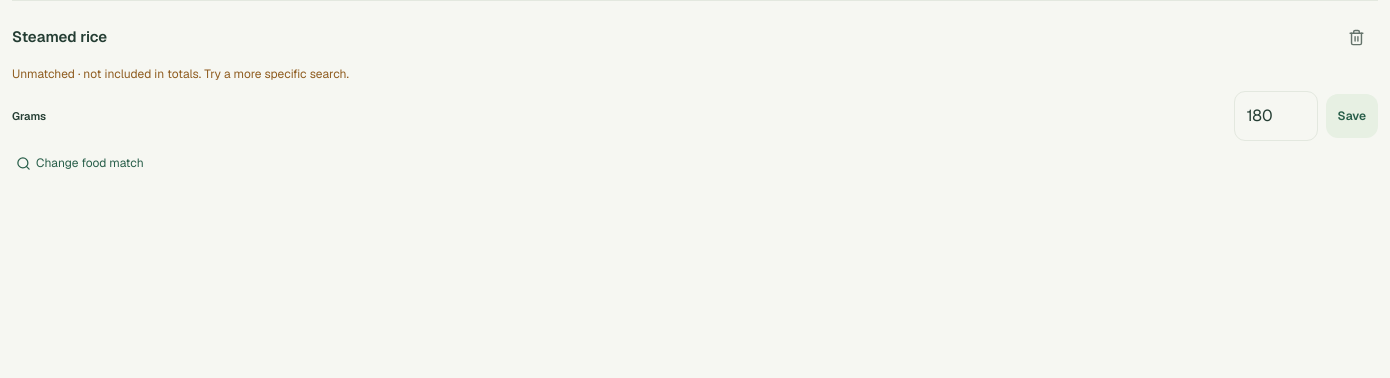
Test: changing a photo meal's food match › keeps the search open when nothing matches
Click the button "Change food match" at {"x": 80, "y": 163}, box [12, 141, 148, 185]
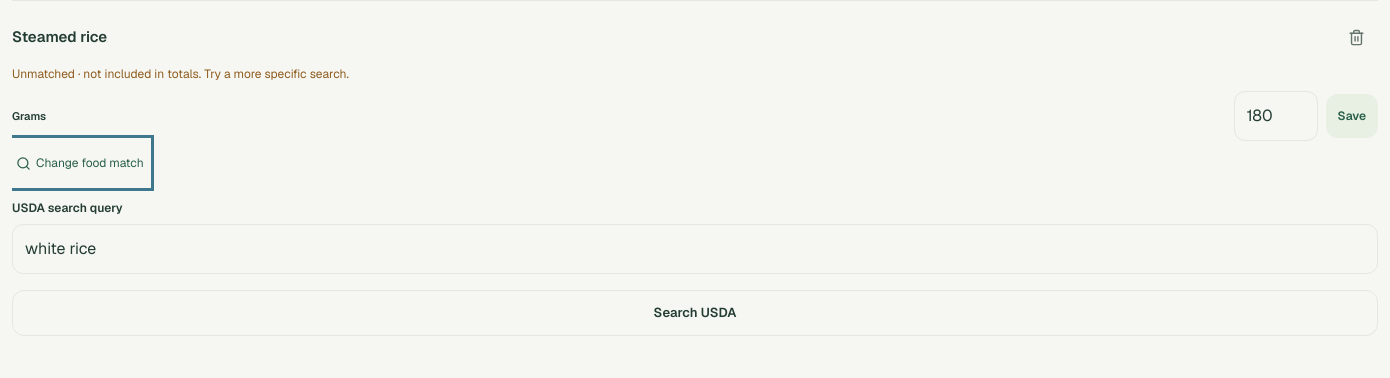
Now the field labelled "USDA search query" holds "white rice"
Replace the text in the field labelled "USDA search query" with "zzqx" at {"x": 695, "y": 249}, box [12, 224, 1378, 274]
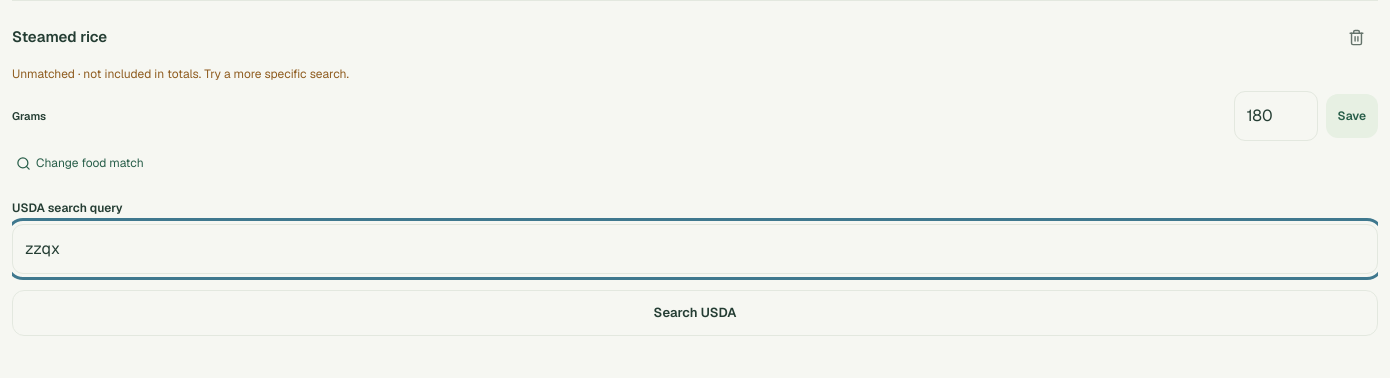
Click the button "Search USDA" at {"x": 695, "y": 313}, box [12, 290, 1378, 336]
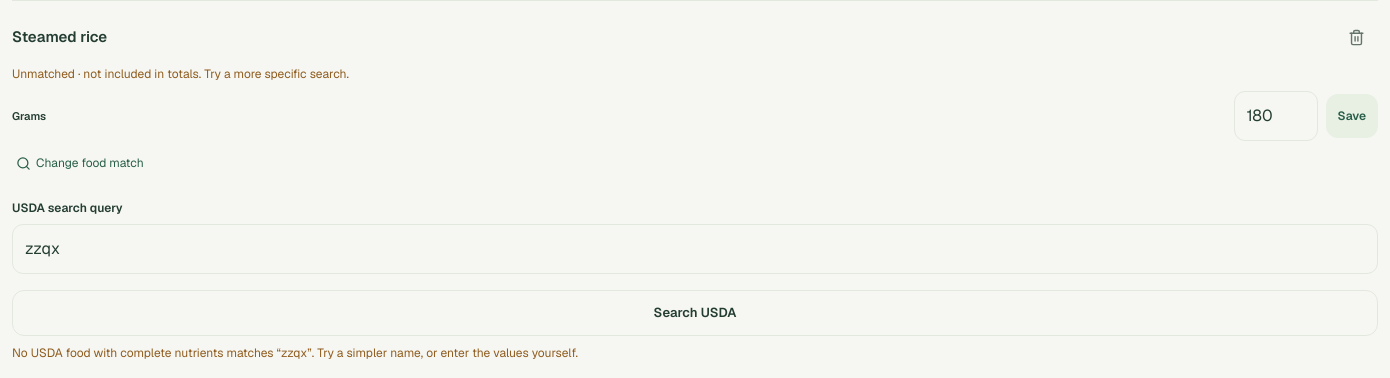
Now the message shows "No USDA food with complete nutrients matches “zzqx”", box [12, 345, 578, 361]
